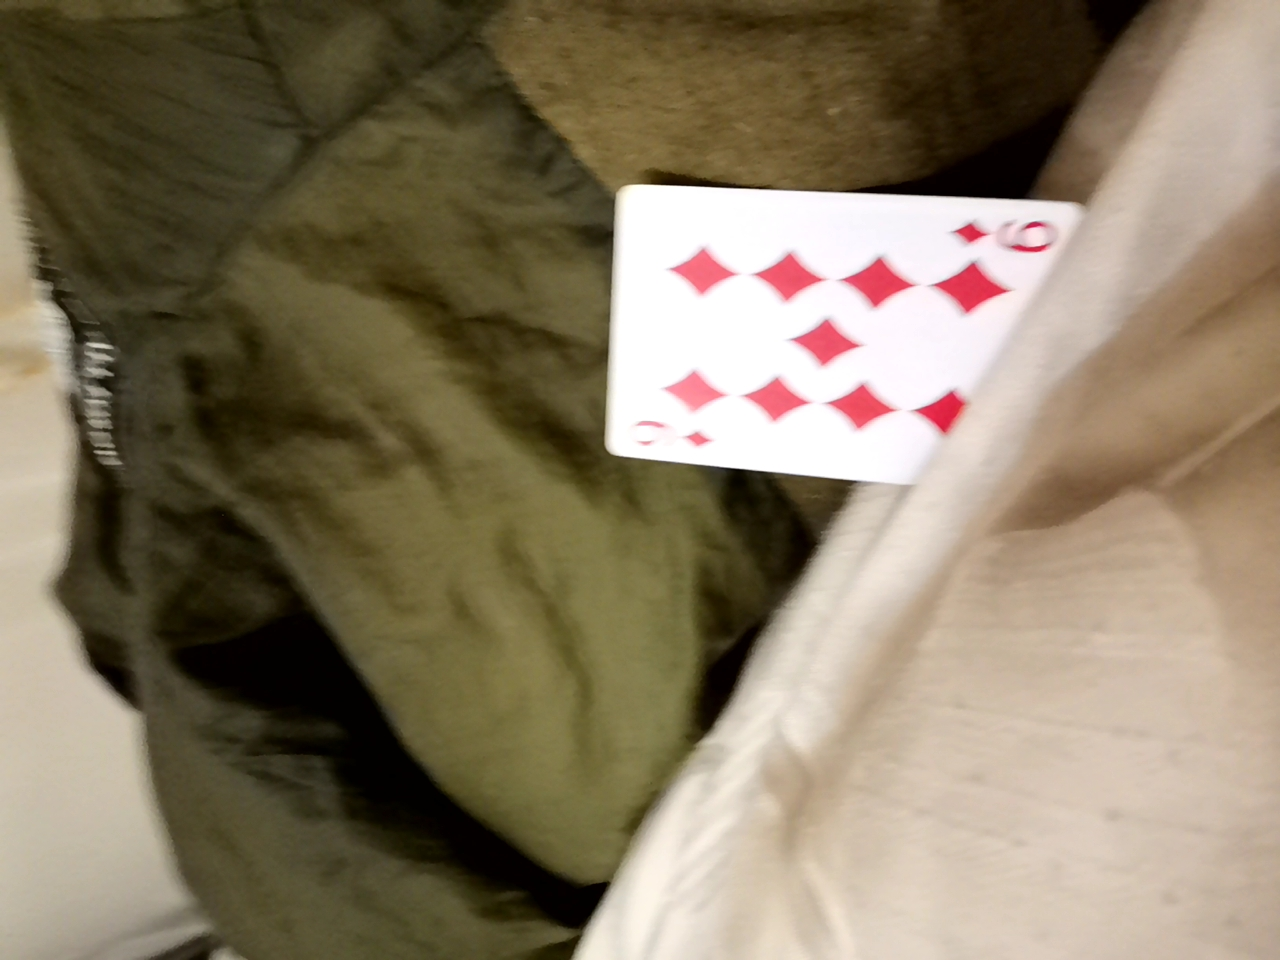fk 9: (669, 144, 1161, 464)
